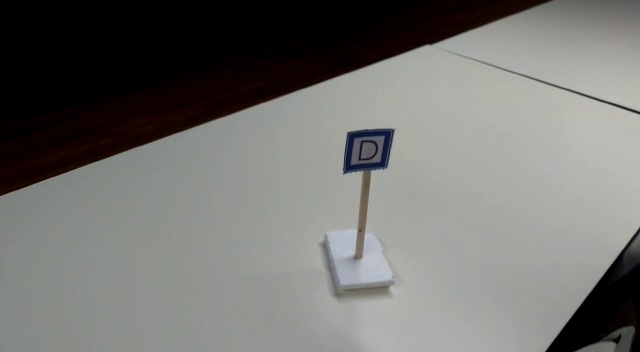durak: (342, 126, 393, 173)
